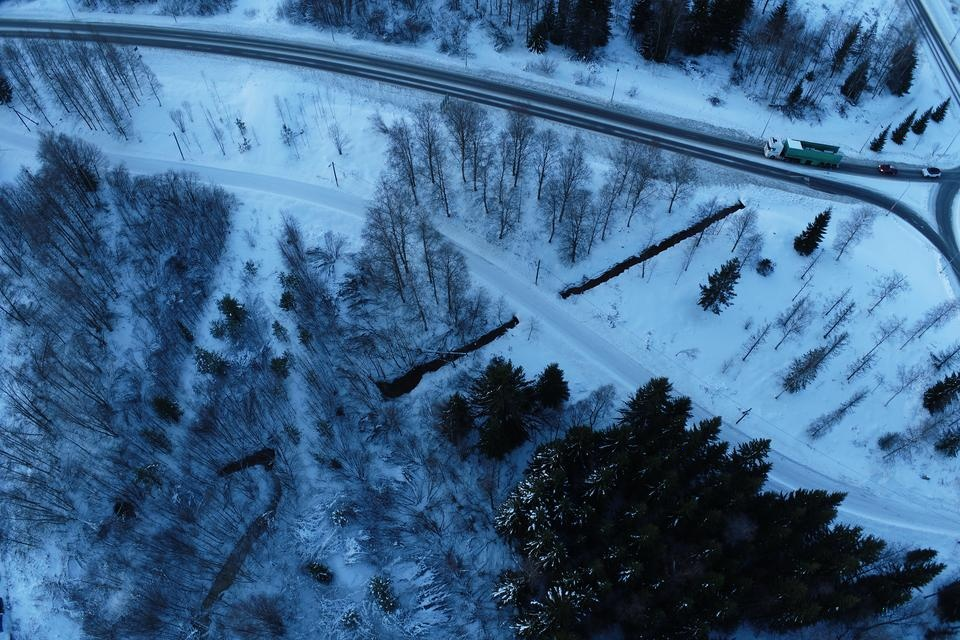roundabout: (877, 116, 960, 300)
